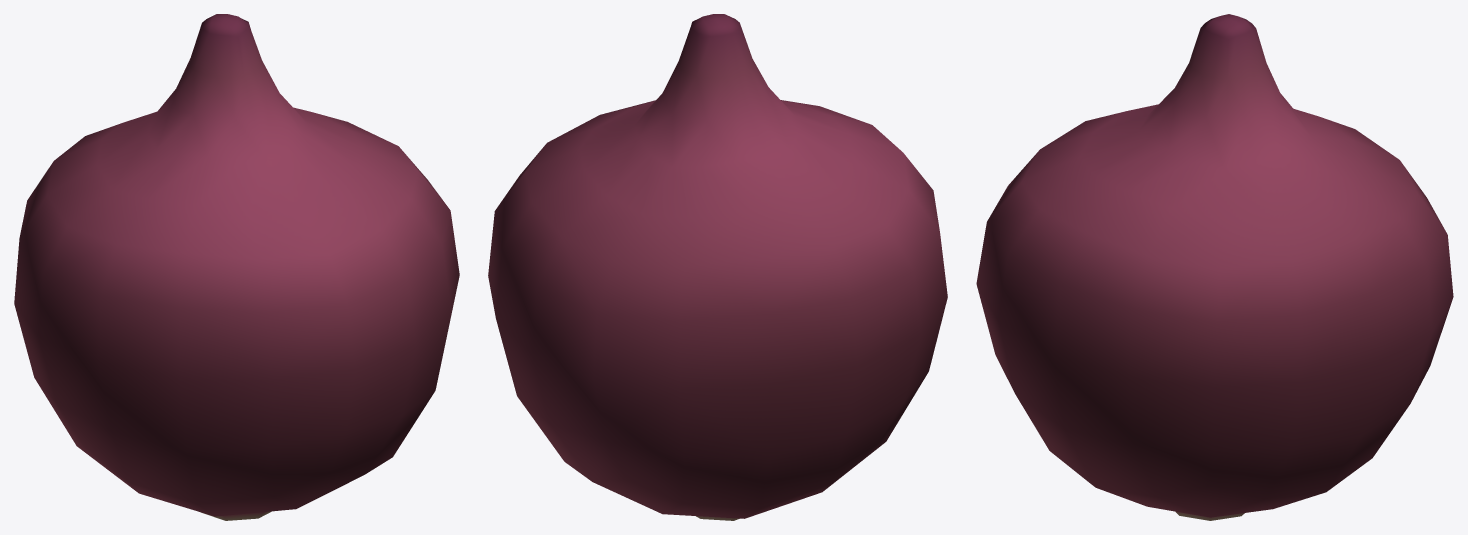
The model's file is consumables-vegetables-spanishonion_v1.glb.
3 renders of one model, left to right at view 1: azimuth 30°, elevation 25°; view 2: azimuth 150°, elevation 25°; view 3: azimuth 270°, elevation 25°, orthographic. The views are drawn at different scales.
Parts seen in each view (by area): view 1: SpanishOnion.001; view 2: SpanishOnion.001; view 3: SpanishOnion.001.
Boxes of the visible parts, x1,y1,x2,y2 form: SpanishOnion.001: [14, 14, 459, 520]; SpanishOnion.001: [488, 14, 947, 520]; SpanishOnion.001: [976, 14, 1453, 520].
Size of the model in its own units: 0.0884 by 0.1022 by 0.0912.
